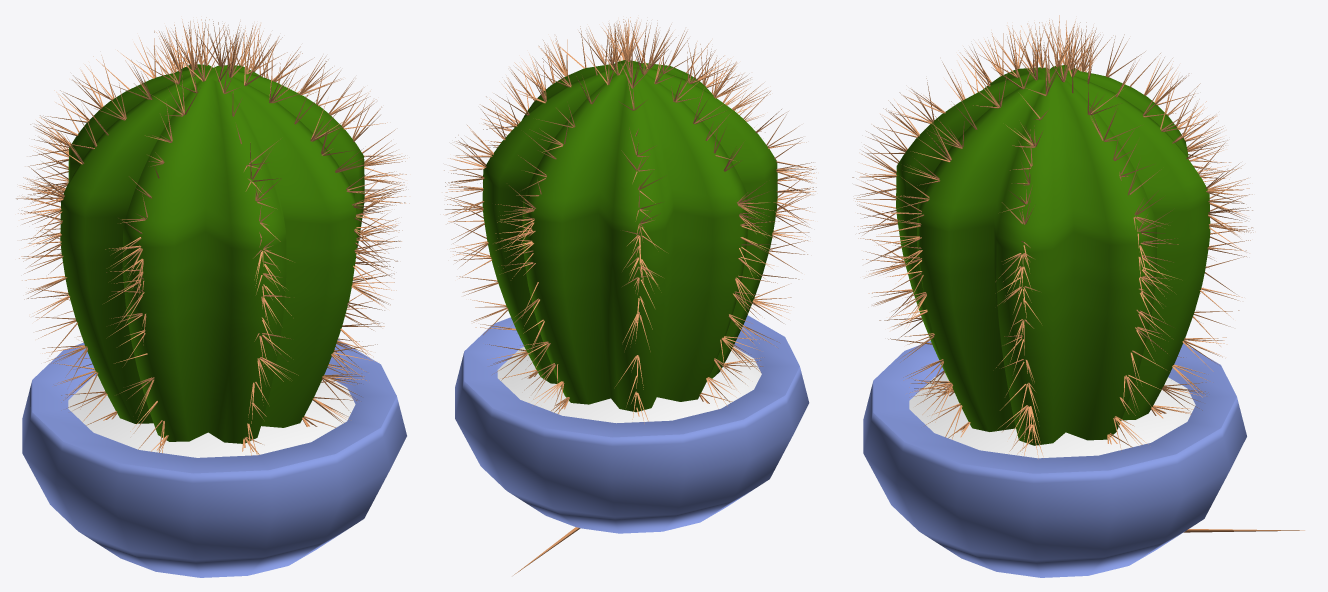
The picture shows the model from 3 angles, left to right: view 1: azimuth 30°, elevation 25°; view 2: azimuth 150°, elevation 25°; view 3: azimuth 270°, elevation 25°; orthographic projection. The views are drawn at different scales.
Visible parts, largest first — view 1: Цилиндр.001, Цилиндр; view 2: Цилиндр.001, Цилиндр; view 3: Цилиндр.001, Цилиндр.
Part boxes in pixels (x1,y1,x2,y2): Цилиндр.001: (60,64,364,443); Цилиндр: (22,339,406,577); Цилиндр.001: (482,60,777,412); Цилиндр: (455,315,809,533); Цилиндр.001: (896,65,1210,445); Цилиндр: (863,341,1246,577).
Bounding box in the file's own units: 2.54 × 3.49 × 2.9.
